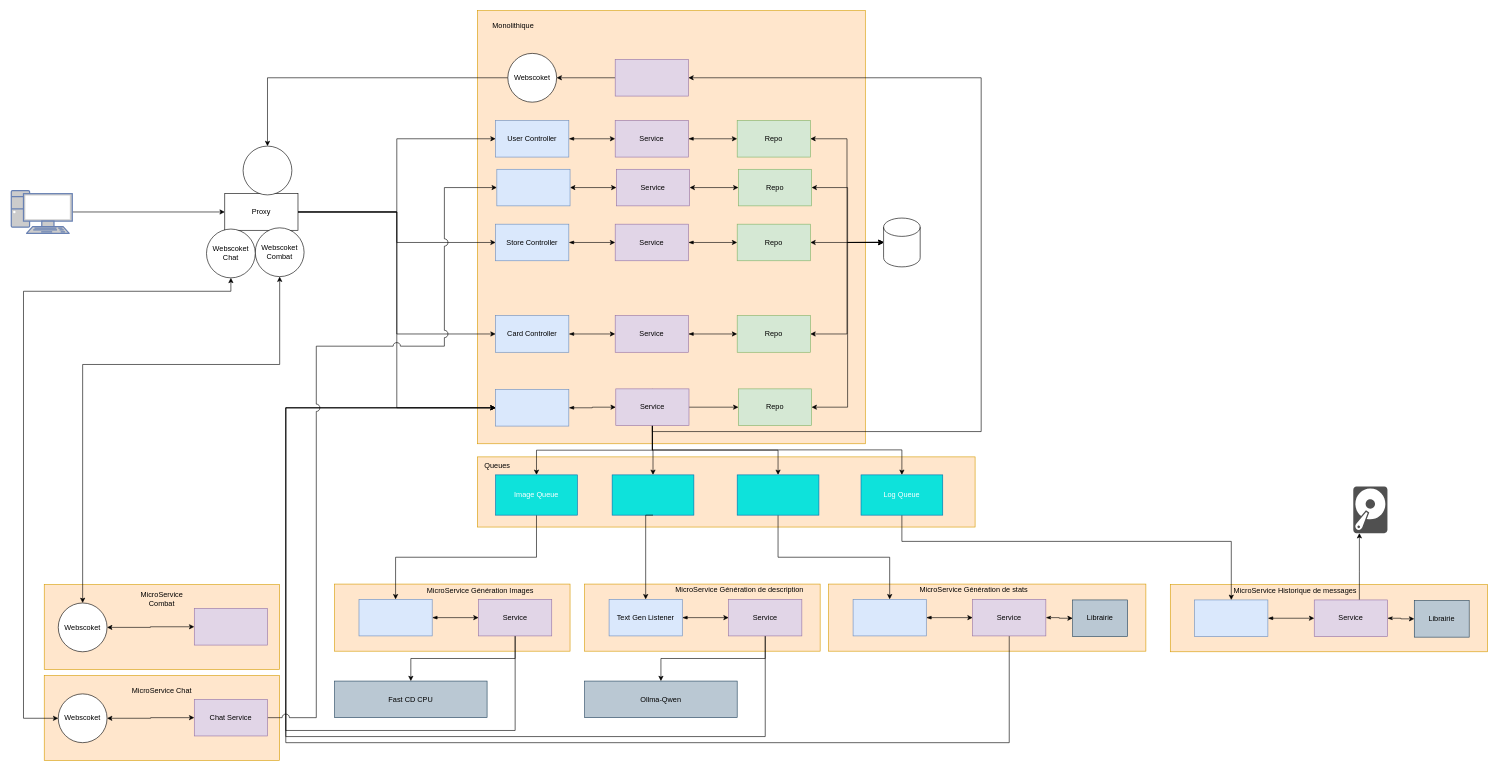
Some shapes in this 1498 by 771 pixel diagram are drawn without their labels. Each missing label, with the centre of its shape:
"Card Generator Controller" goes at (532,407).
"ChatHistory Controller" goes at (533,187).
"Combat Service" goes at (230,626).
"DB" goes at (901,242).
"Front" goes at (41,212).
"Image Gen Listener" goes at (395,617).
"Log queue Listener" goes at (1231,618).
"LogHistory.txt" goes at (1370,509).
"NotifierService" goes at (651,77).
"Stat Queue" goes at (778,494).
"Stats gen Listener" goes at (889,617).
"Text Queue" goes at (653,494).
"Webscoket Notifcations" goes at (267,170).
